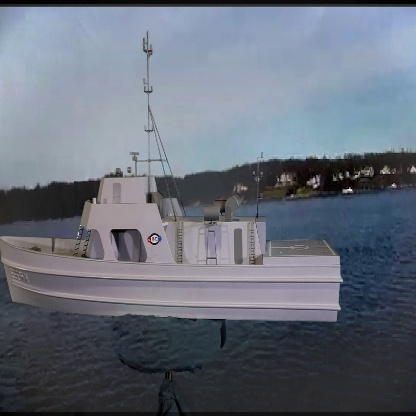YP689: (0, 31, 344, 320)
